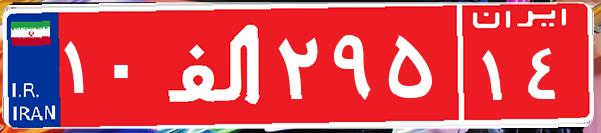0: (110, 28, 158, 105)
1: (57, 26, 110, 107), (475, 38, 525, 113)
2: (273, 28, 330, 110)
4: (525, 38, 570, 115)
5: (385, 28, 445, 110)
9: (330, 28, 385, 110)
الف: (158, 15, 273, 115)
